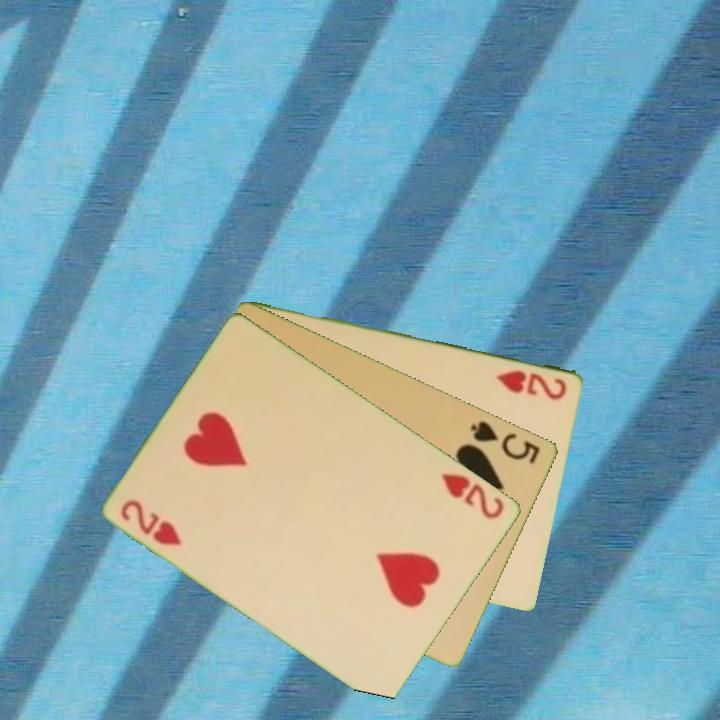2h: (117, 495, 186, 549), (438, 469, 508, 522), (493, 366, 570, 403)
5s: (467, 417, 544, 467)
